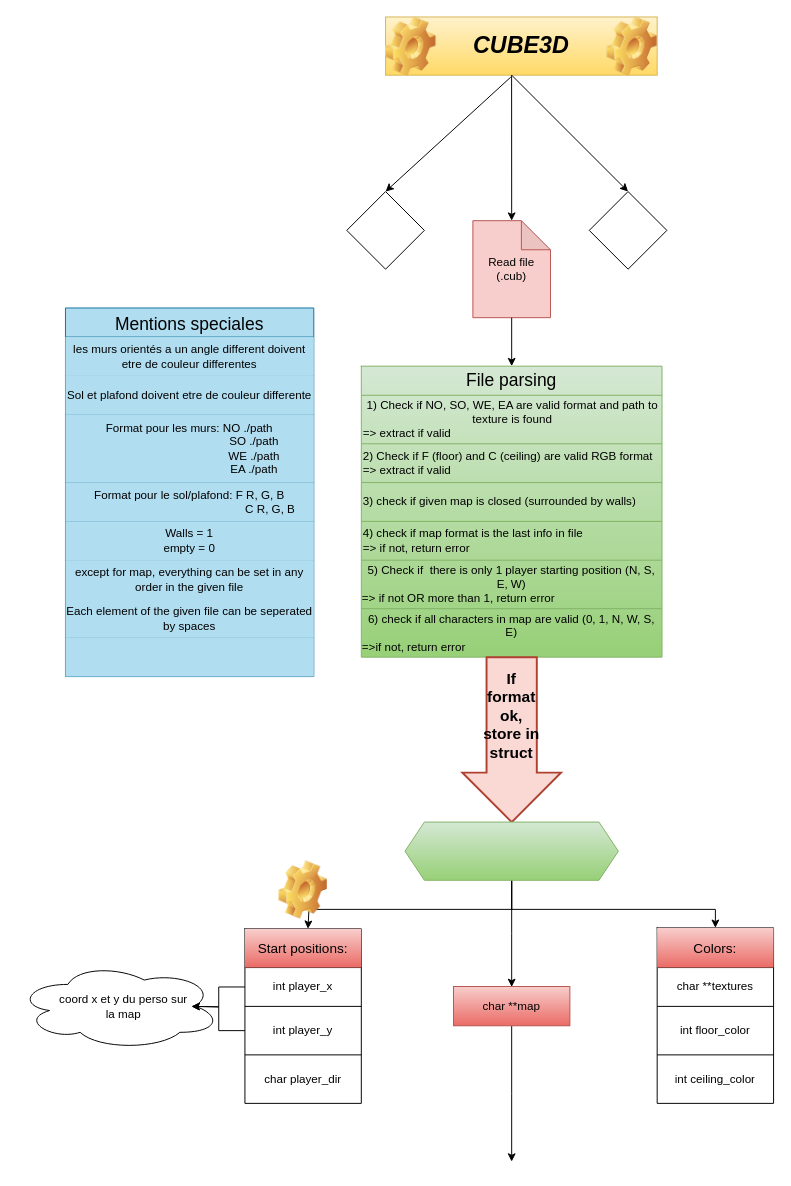
Image size: 791x1186. Some labels were removed from this diagram. The shapes that lost their labels are listed below. From the top down, each one's box as (x1, y1, x2, y2) in pixels, then its label:
(346, 191, 424, 269): argc = 2
(588, 191, 667, 269): argv[1] = .cub
(404, 821, 618, 880): struct t_game_map
